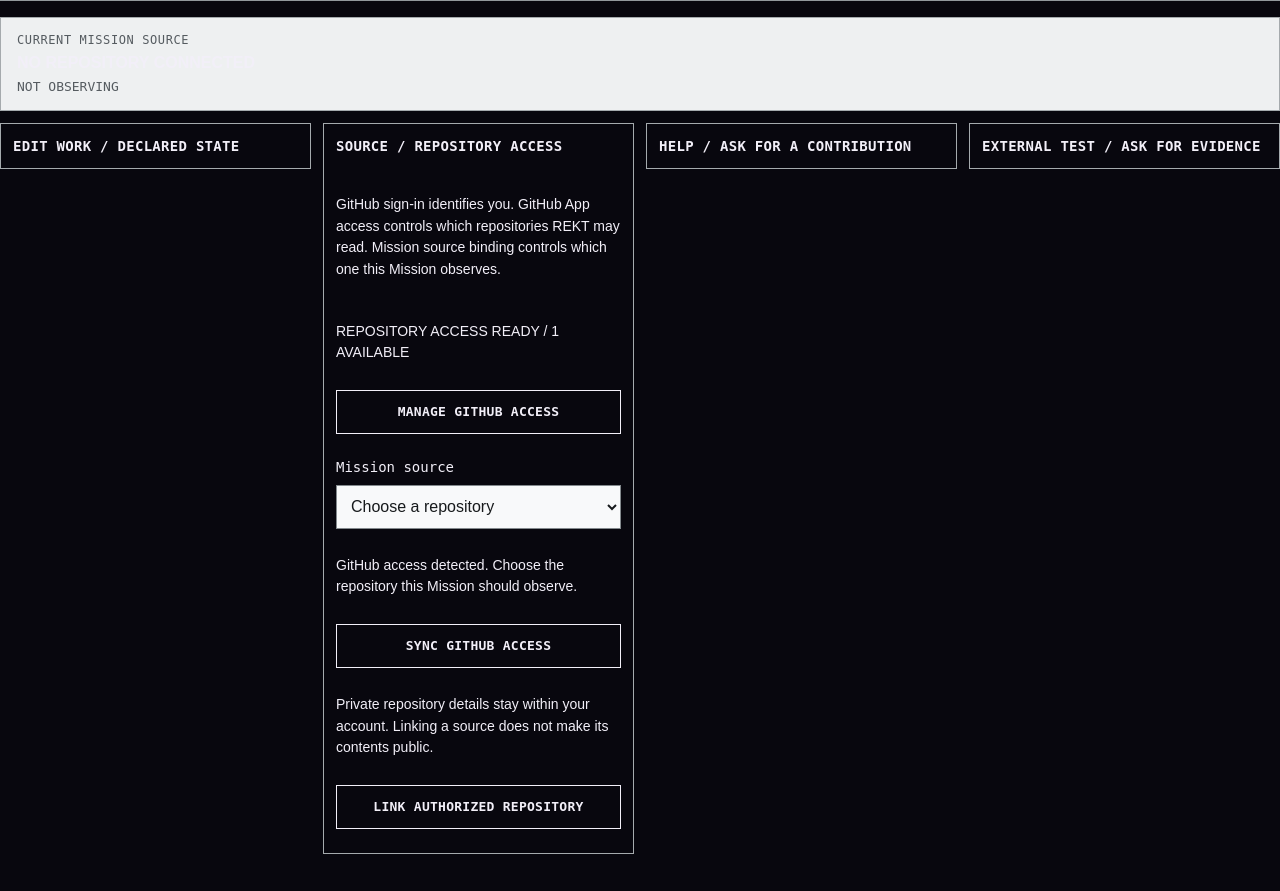
Scenario: GitHub repository sync routing › keeps repository authority while surfacing degraded Push observation health
This screenshot has width=1280, height=891.
expect the text "REPOSITORY ACCESS READY / 1 AVAILABLE" is shown: met, box 336,323 -> 559,360
Click the button "SYNC GITHUB ACCESS": (478, 646) 336,624 -> 621,668
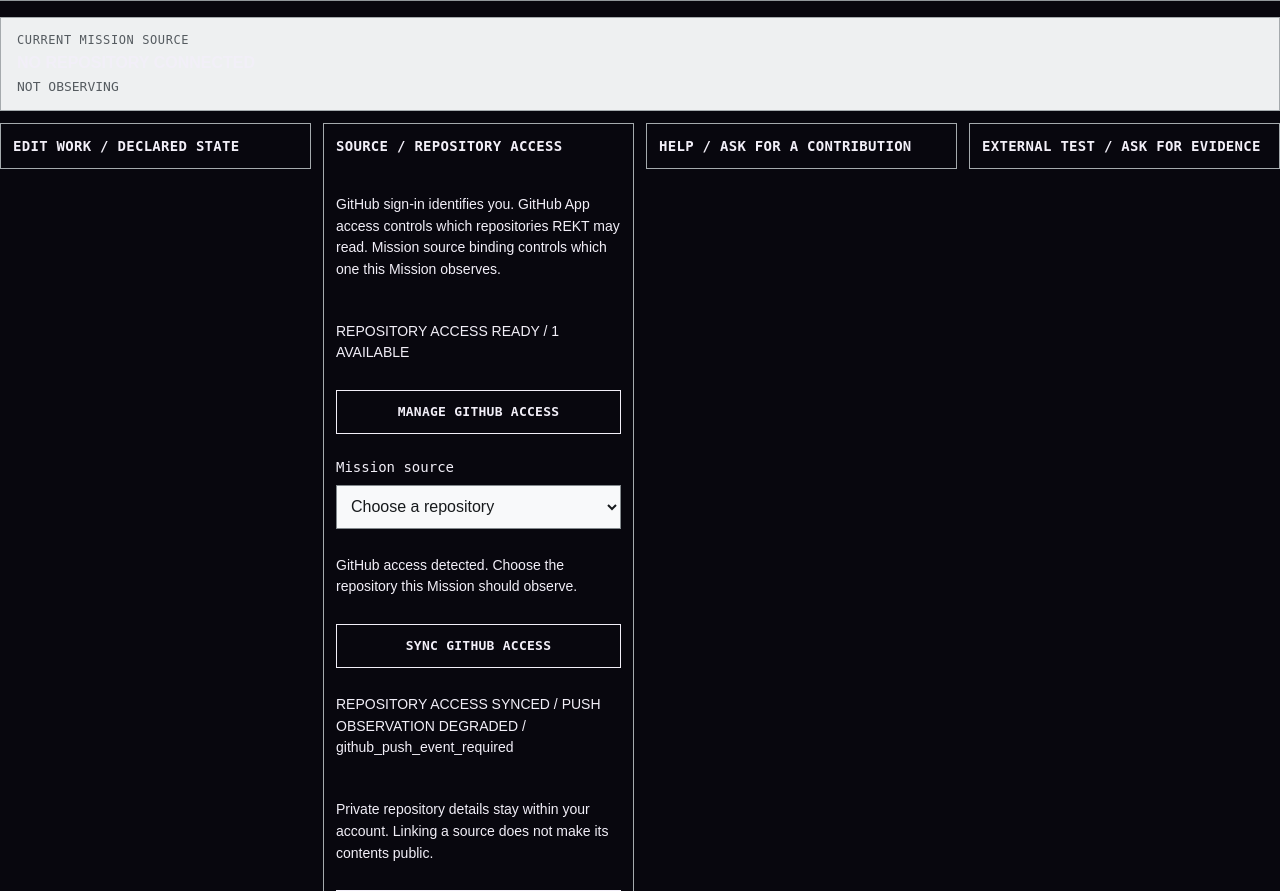
expect the text "REPOSITORY ACCESS SYNCED / PUSH OBSERVATION DEGRADED / github_push_event_required" is shown: met, box 336,696 -> 600,756
